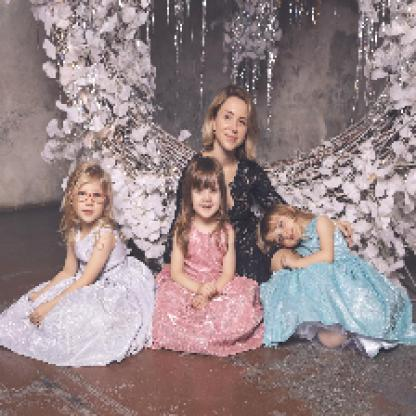child: (1, 164, 157, 370), (258, 204, 414, 360), (153, 158, 267, 357)
